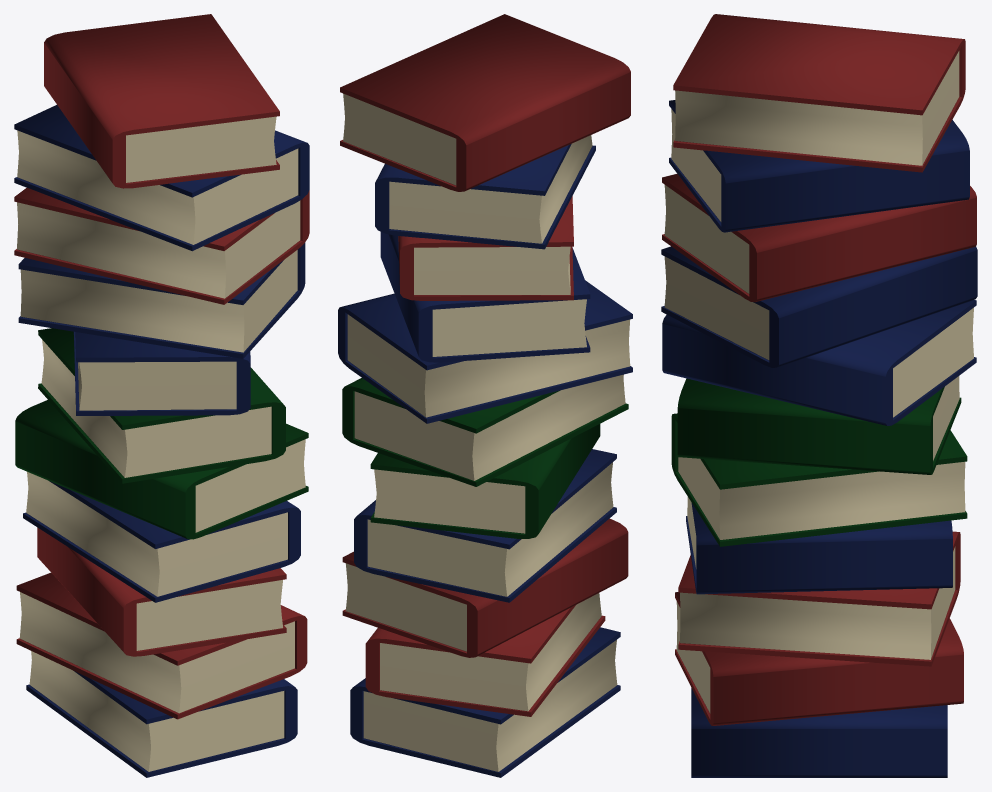
Rendered from StackBooks.fbx.
3 views of the same model, side by side, from view 1: azimuth 30°, elevation 25°; view 2: azimuth 150°, elevation 25°; view 3: azimuth 270°, elevation 25° (orthographic). The views are drawn at different scales.
Visible parts, largest first — view 1: Cube.006; view 2: Cube.006; view 3: Cube.006.
Boxes of the visible parts, bbox=[...] form: Cube.006: bbox=[14, 14, 309, 777]; Cube.006: bbox=[338, 14, 632, 777]; Cube.006: bbox=[661, 14, 977, 777].
Bounding box in the file's own units: 119 × 295 × 123.
